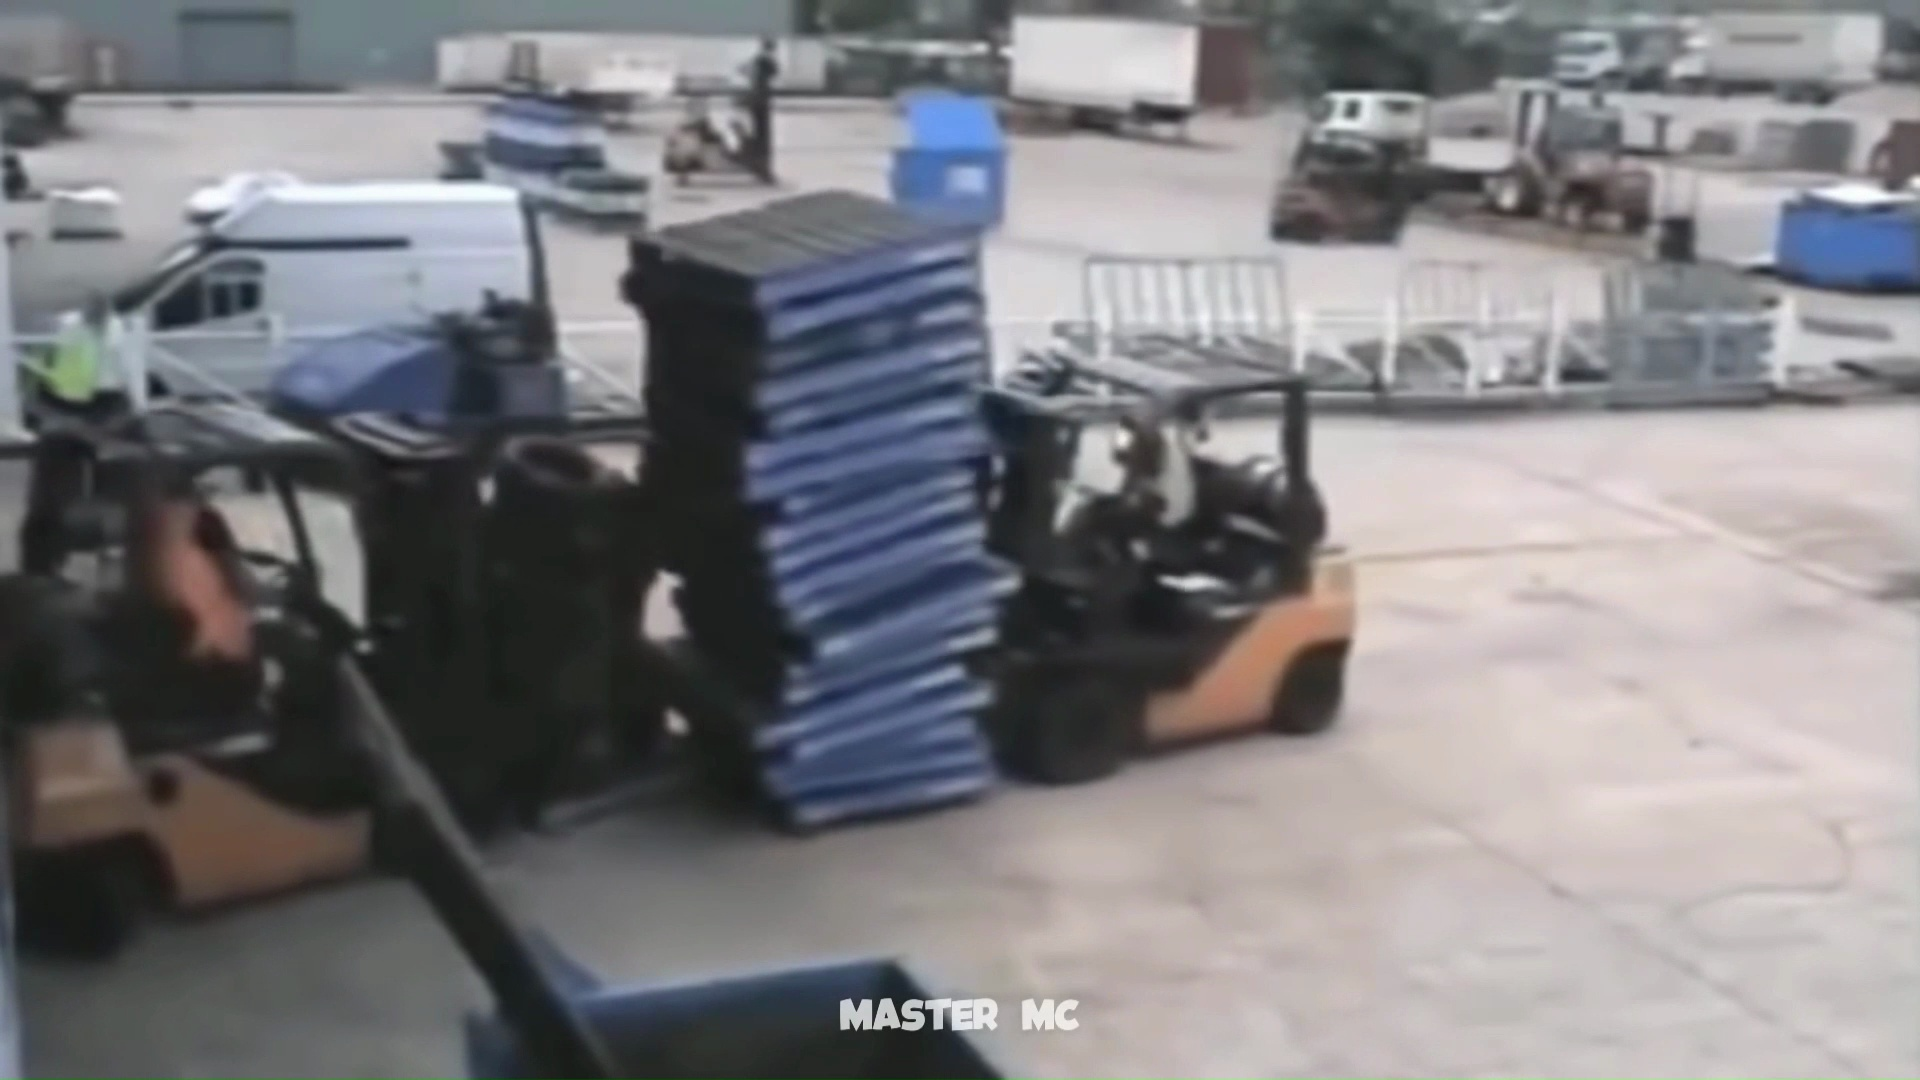forklift: (655, 224, 1365, 819), (1, 388, 758, 922)
